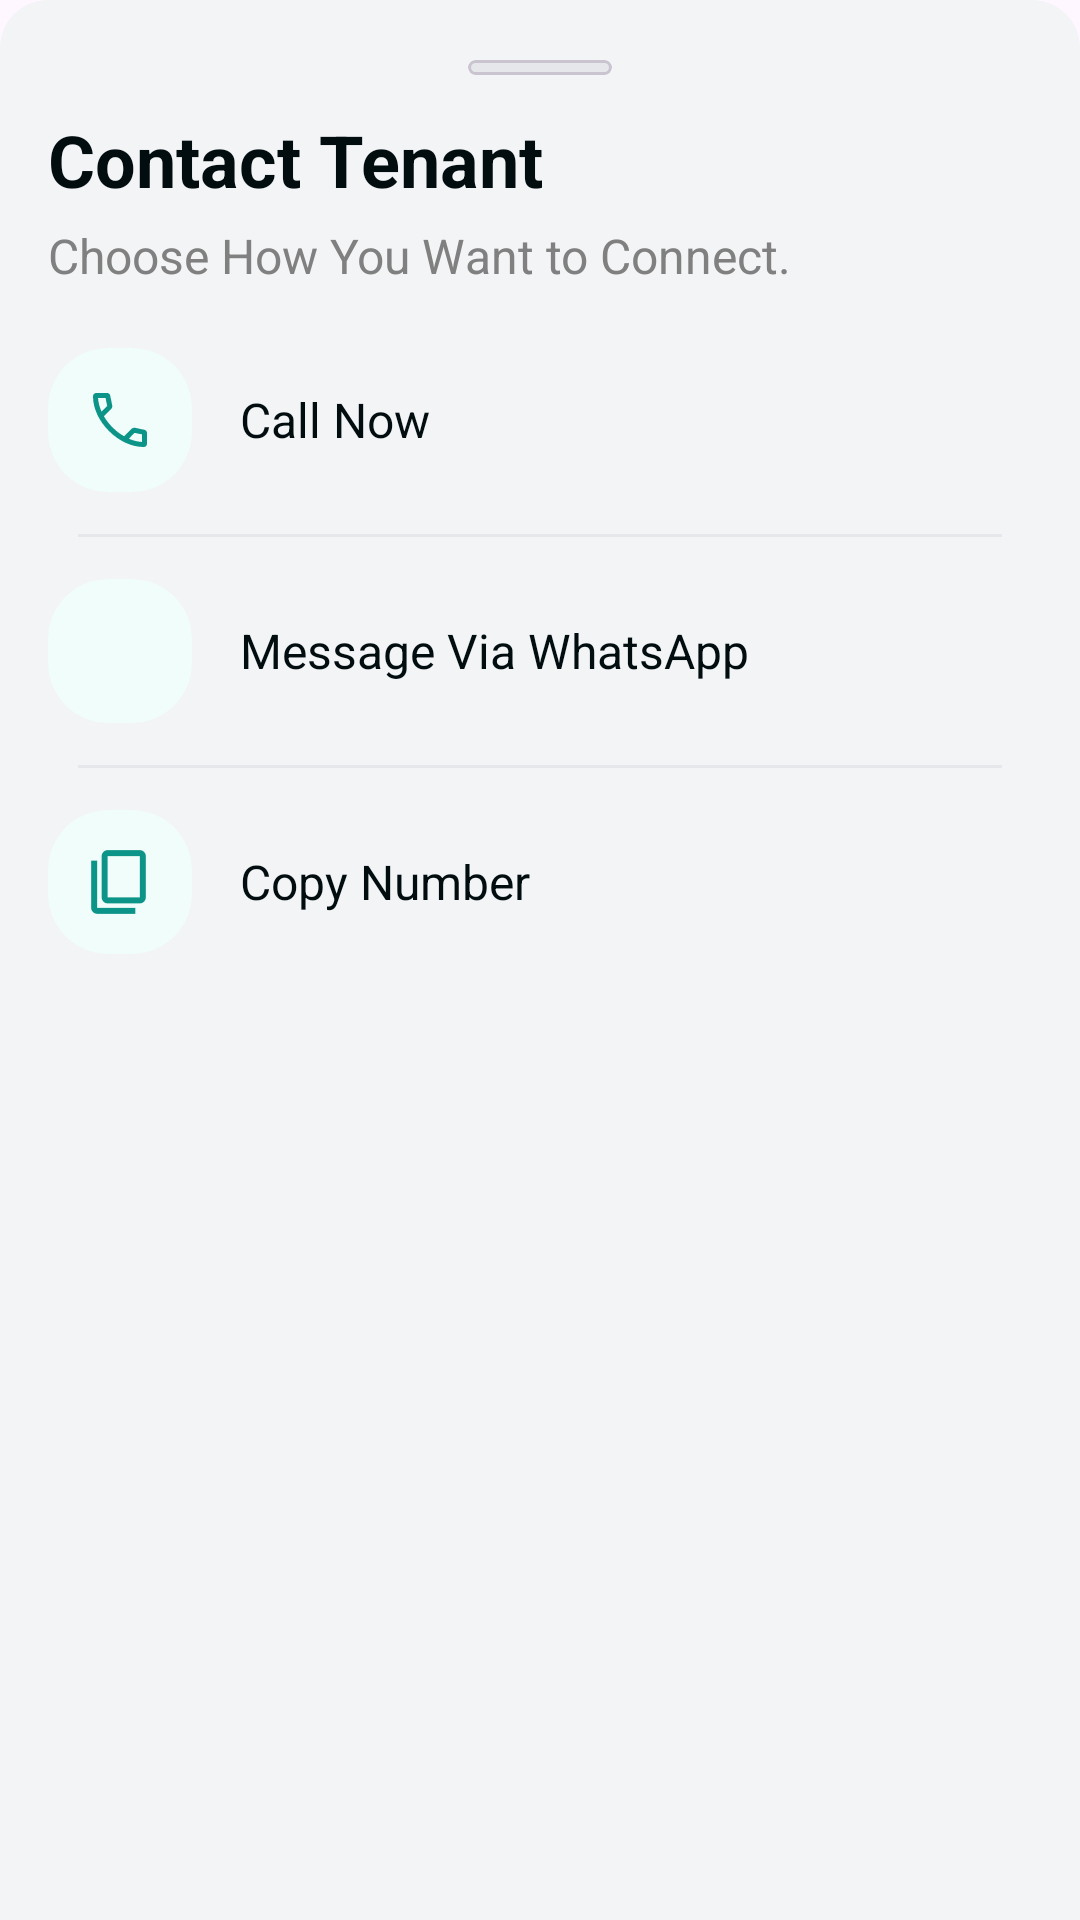

Screen size 1080px x 1920px. Icon name, then its center in pixels as point (x, y):
phone: point (120, 420)
